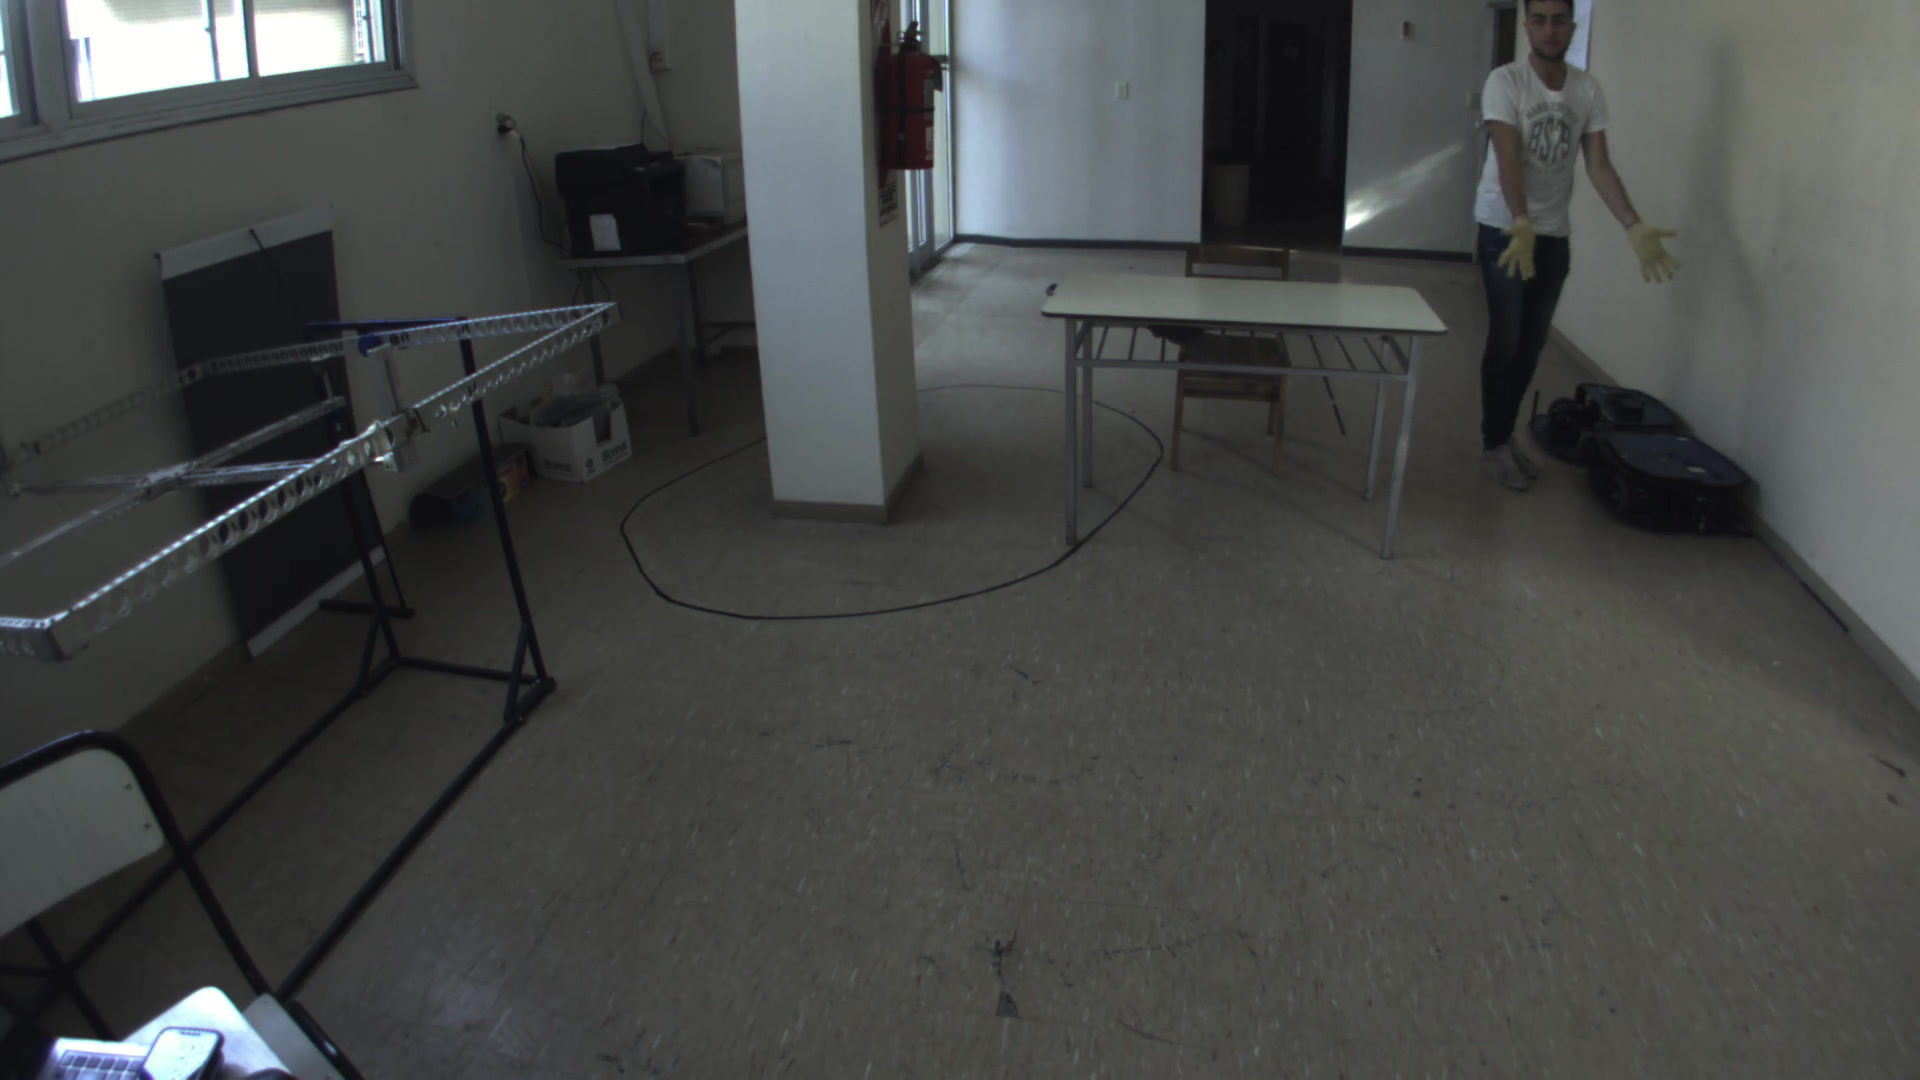hand: (1617, 214, 1692, 290), (1491, 211, 1552, 284)
